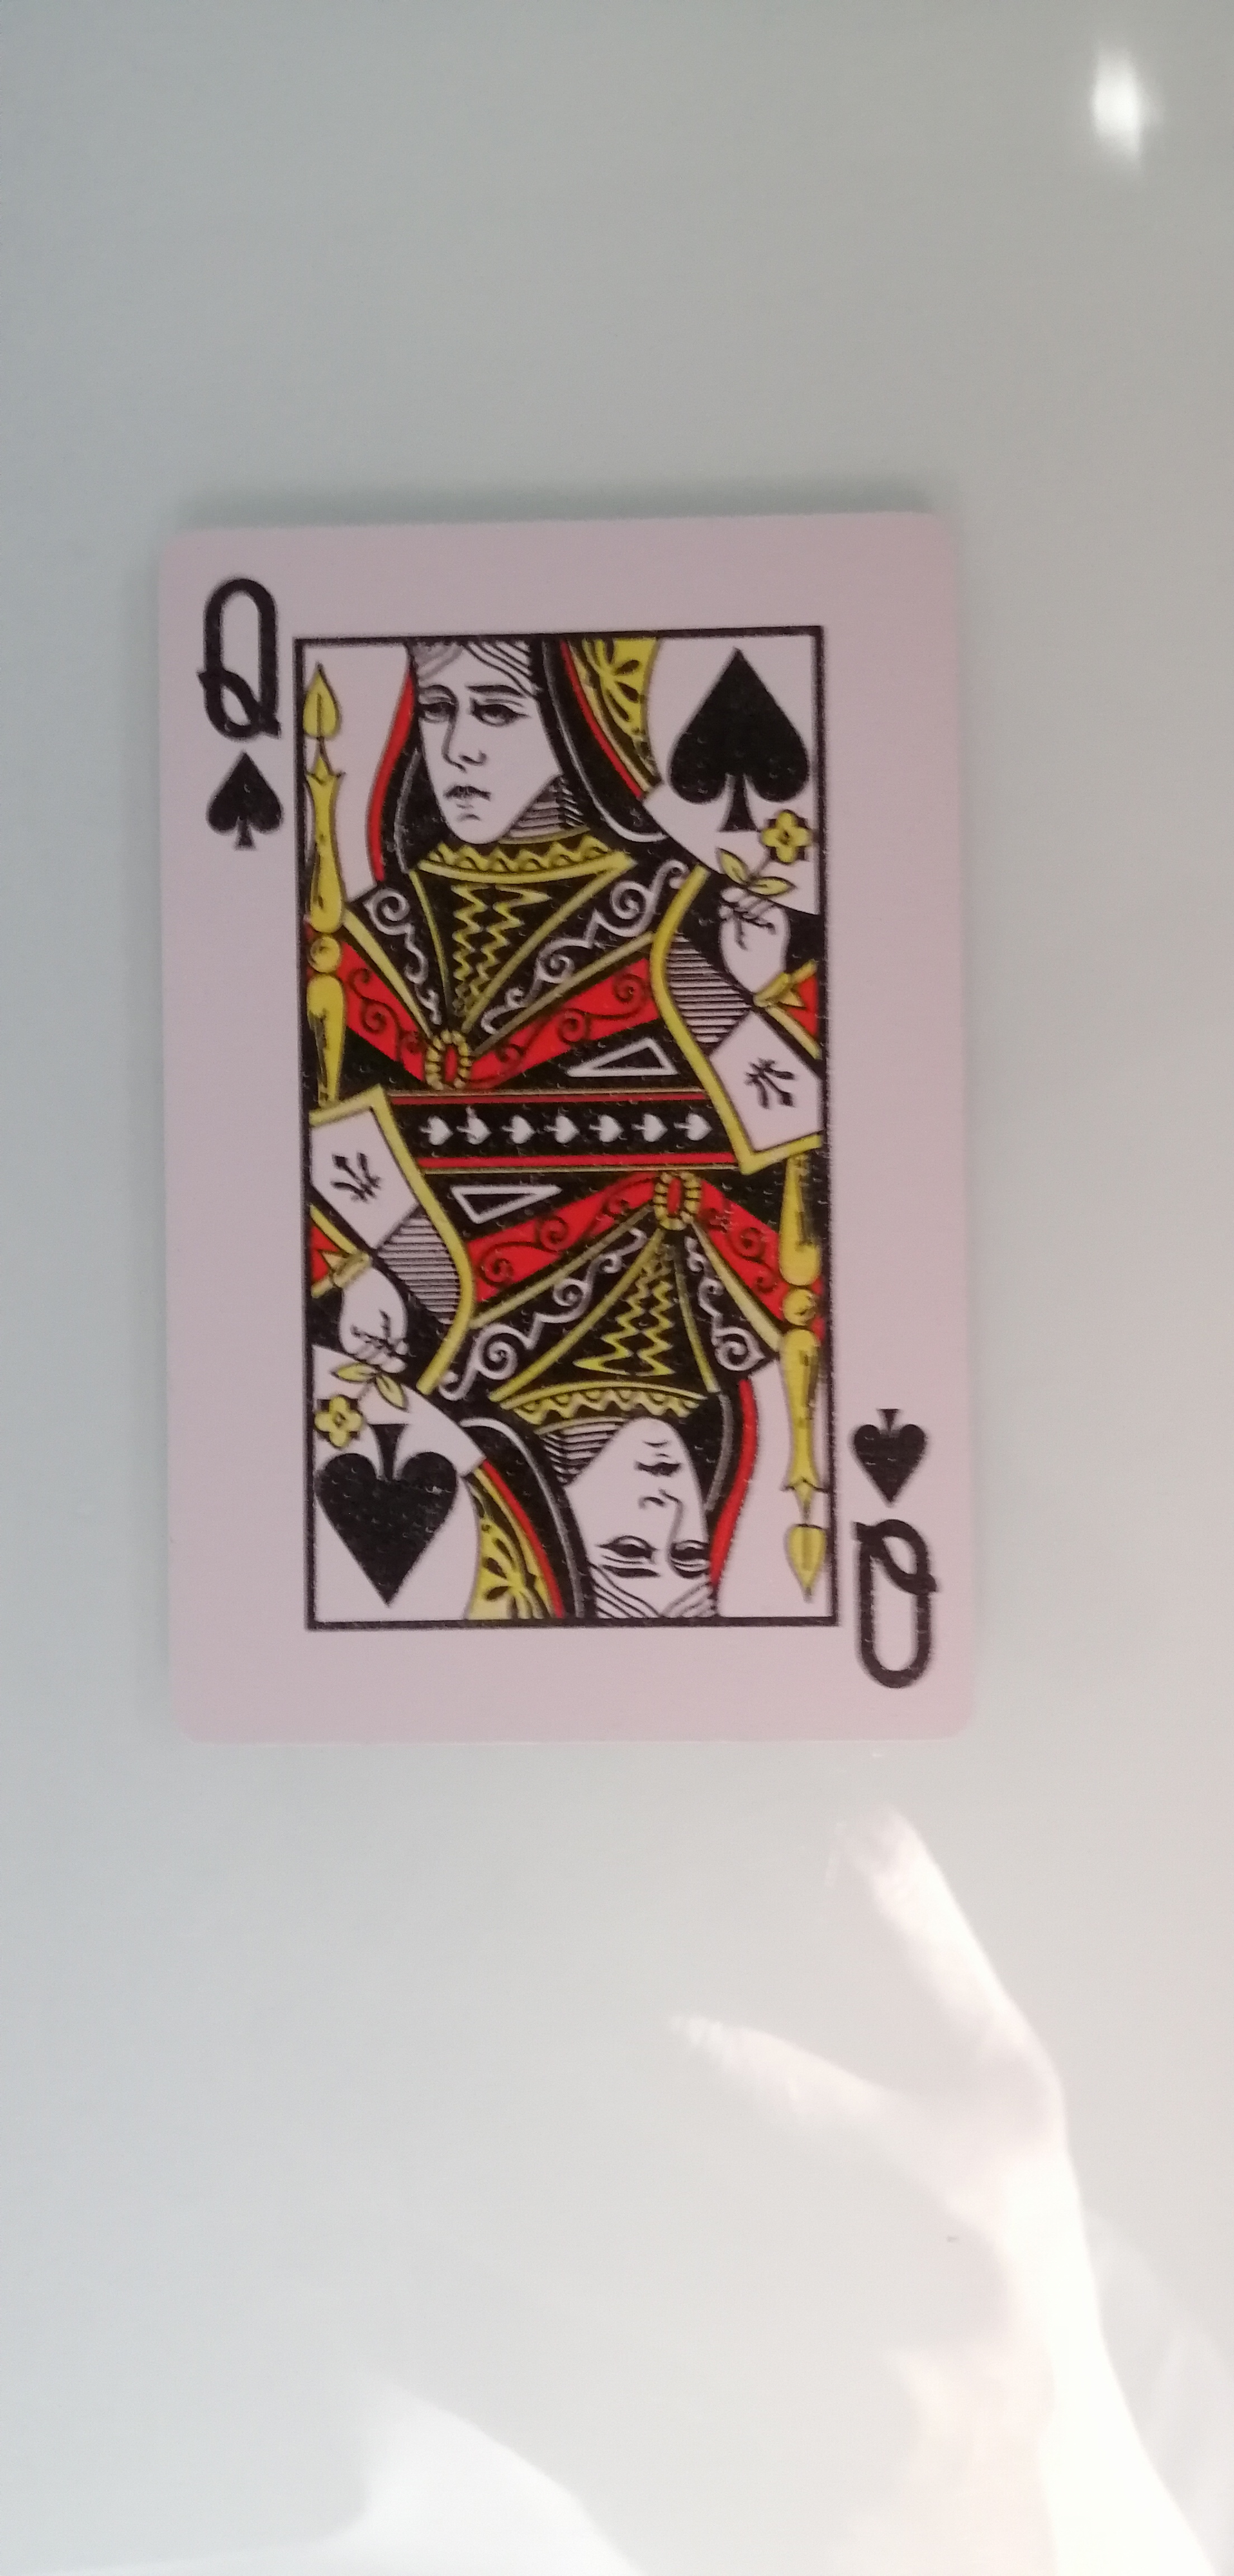queen: (159, 508, 976, 1746)
